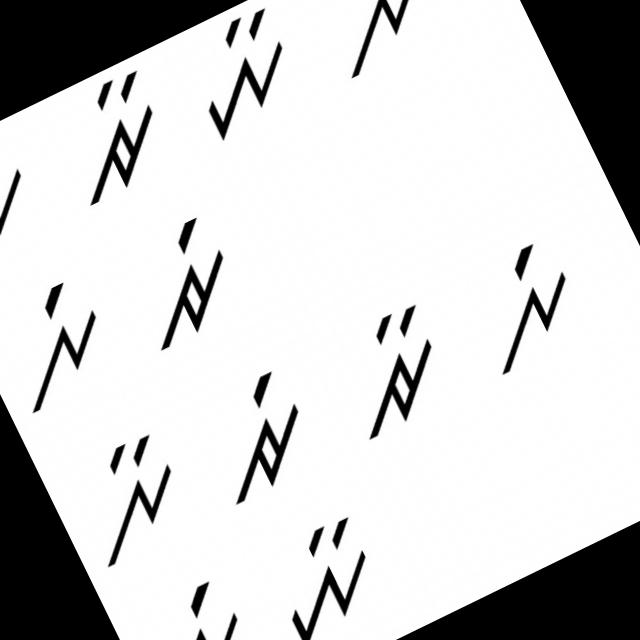lan: (56, 417, 210, 574), (294, 0, 457, 90)
lang: (442, 220, 606, 390), (0, 268, 131, 423)
ran: (312, 291, 471, 456), (41, 64, 188, 210)
rang: (105, 196, 262, 357), (188, 360, 334, 512)
yan: (245, 500, 408, 639), (165, 0, 318, 148)
yang: (121, 563, 273, 639), (0, 125, 56, 273)
